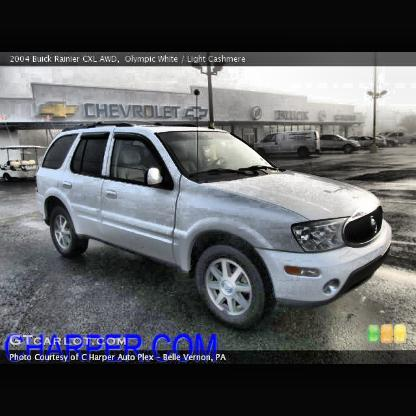Buick Rainier SUV 2007: (38, 122, 398, 326)
